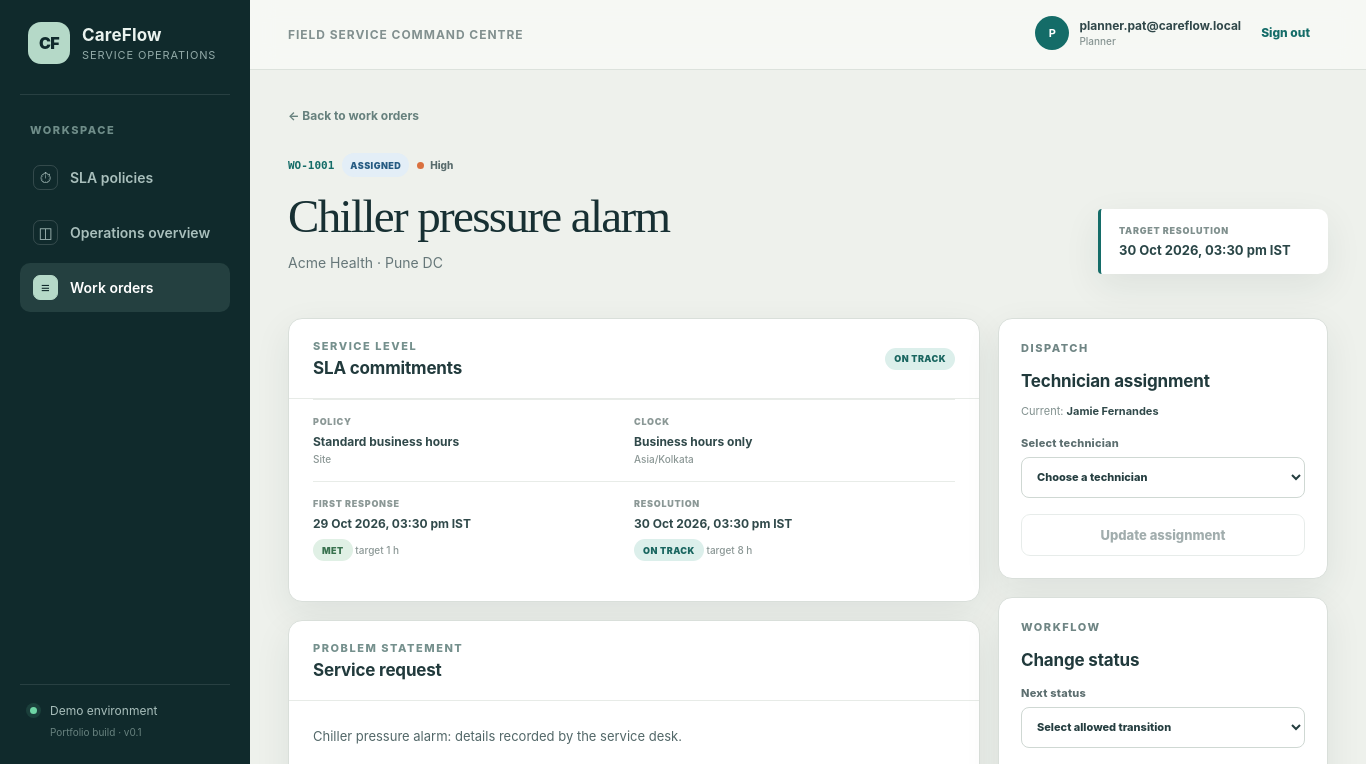
Test: Work order detail (MSW) › status transitions › applies a non-terminal transition without asking for a reason
Check: the heading "Chiller pressure alarm" is shown, box x1=288 y1=191 x2=670 y2=242
Step 1. Select "In Progress" in the dropdown labelled "Next status" → (1163, 727), box x1=1021 y1=707 x2=1305 y2=748
(page scrolled)
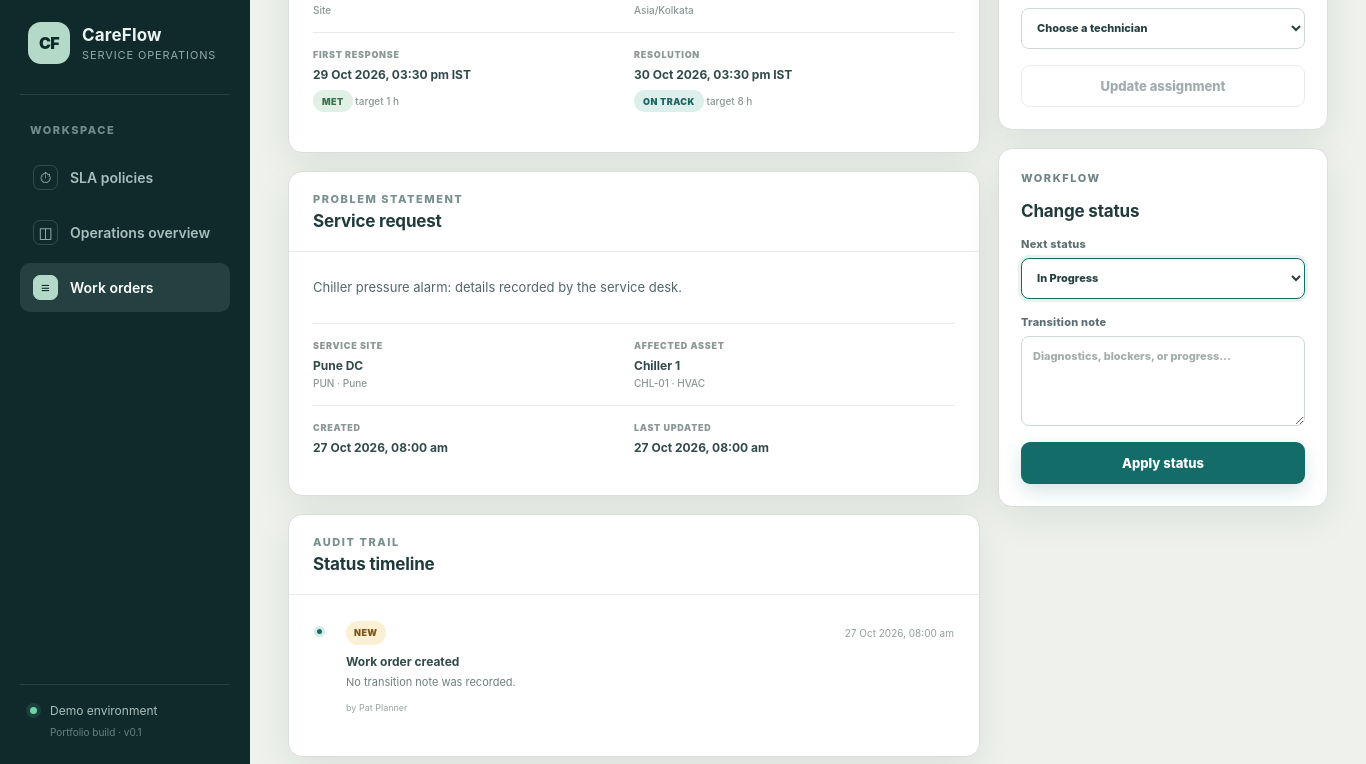
Step 2. Type "On site, starting diagnostics." into the text box labelled "Transition note" → (1163, 381), box x1=1021 y1=336 x2=1305 y2=426
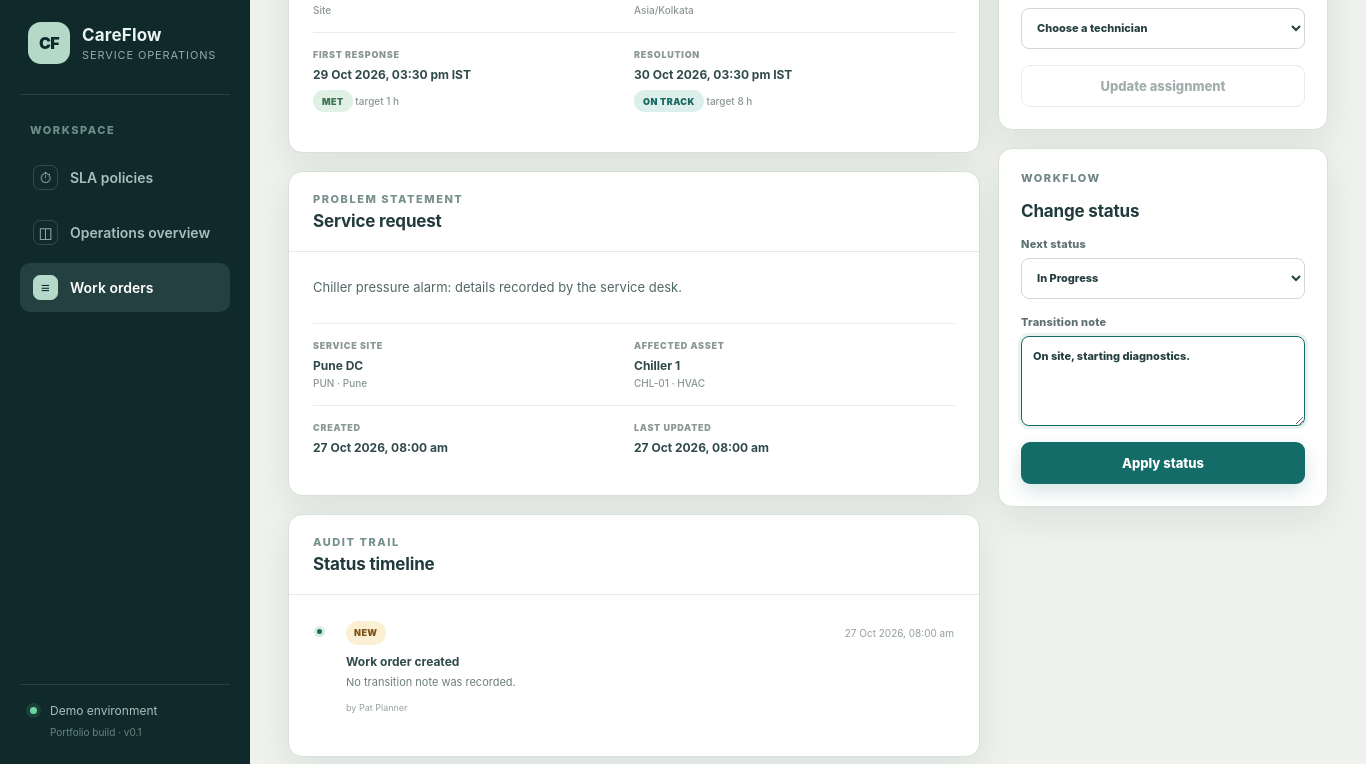
Step 3. Click the button "Apply status" → (1163, 463), box x1=1021 y1=442 x2=1305 y2=484
(page scrolled)
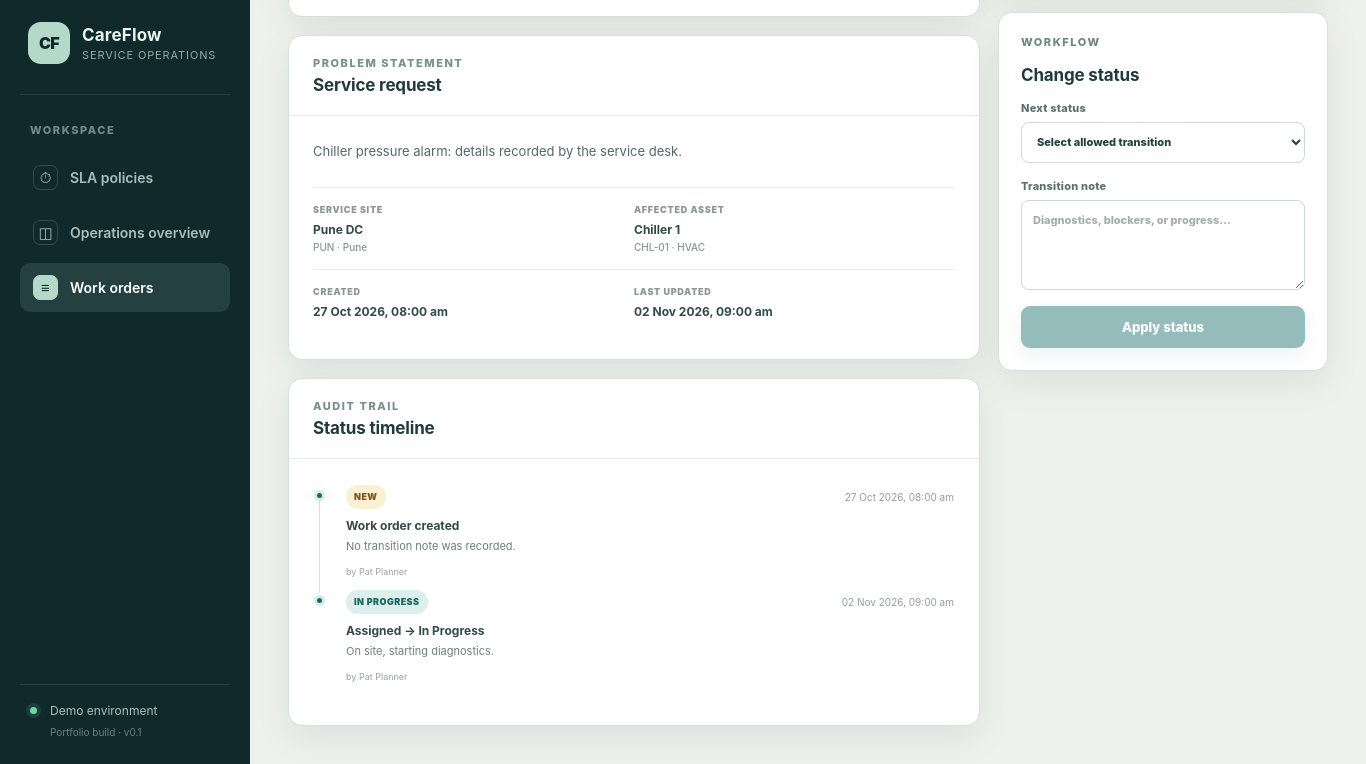
Check: the text "Assigned → In Progress" is shown, box x1=346 y1=623 x2=485 y2=638
Check: the text "On site, starting diagnostics." is shown, box x1=346 y1=644 x2=494 y2=658
